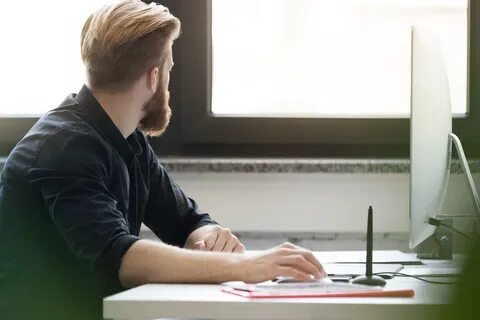awake: (1, 1, 245, 284)
